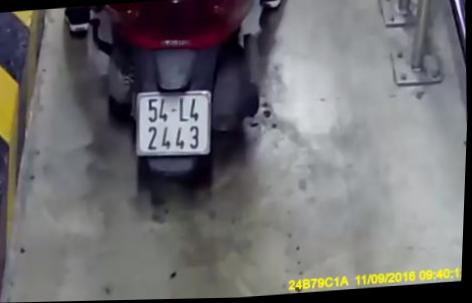LP: (131, 83, 216, 163)
